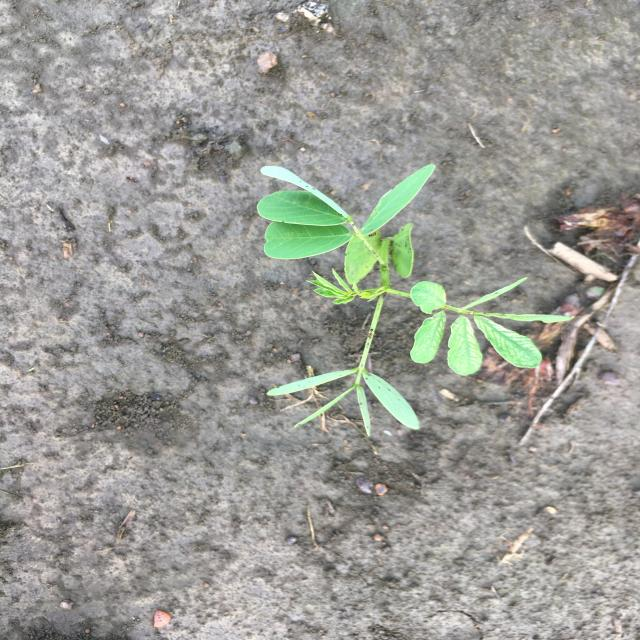Sicklepod: (255, 161, 578, 439)
